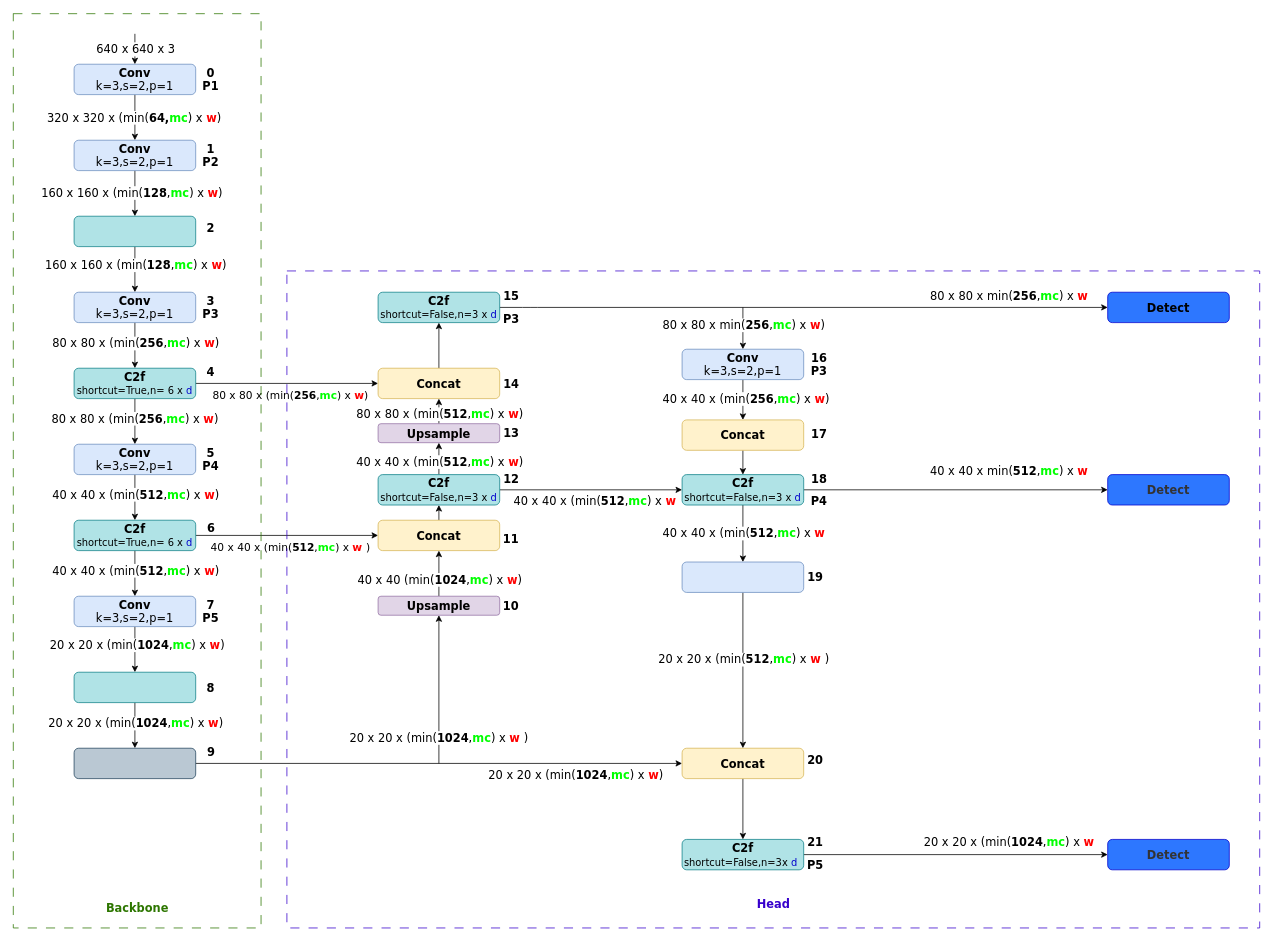
This 1273x947 diagram has some shape labels left out. Here are the shapes that lost their labels. From the top down, the centre of each, then its label:
At pixel 134 231: "C2f shortcut=True, n=3 x d".
At pixel 742 576: "Conv".
At pixel 134 687: "C2f shortcut=True,n= 3 x d".
At pixel 134 763: "SPPF k = 5".
